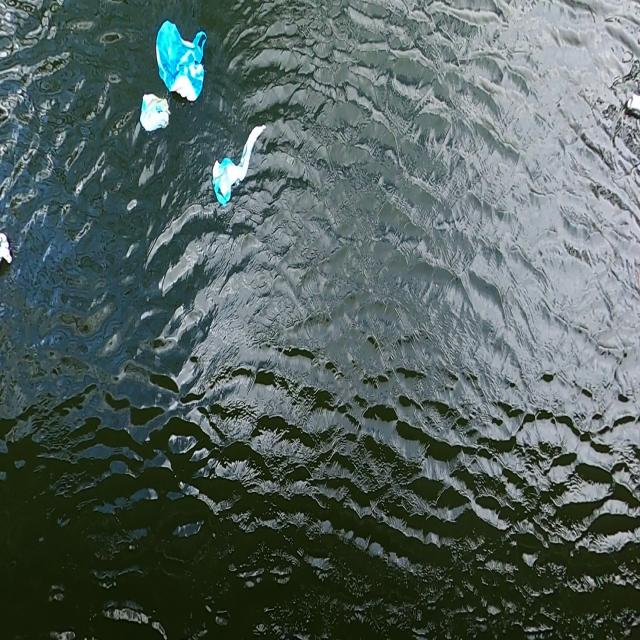Sac plastique: (145, 11, 219, 110), (207, 120, 269, 212), (134, 94, 174, 137)
